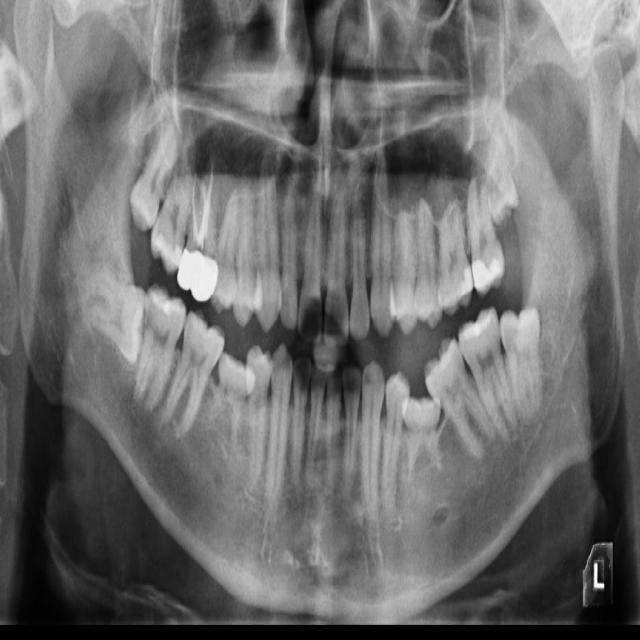3M ESPE Implant: (119, 112, 189, 236)
52: (446, 303, 512, 365), (133, 214, 193, 280), (135, 279, 199, 339), (428, 263, 490, 320), (172, 247, 223, 305), (464, 240, 512, 297)
73: (184, 146, 222, 266), (596, 564, 598, 578)
BioHorizons Implant: (460, 150, 508, 298)
BioLife Implant: (478, 125, 524, 237)
Biomet 3i Implant: (498, 304, 547, 419)
Blue Sky Bio Implant: (453, 304, 519, 446)
Caries: (144, 120, 208, 278)
Implant: (129, 281, 190, 412)
Keystone Dental Implant: (78, 267, 154, 365)
